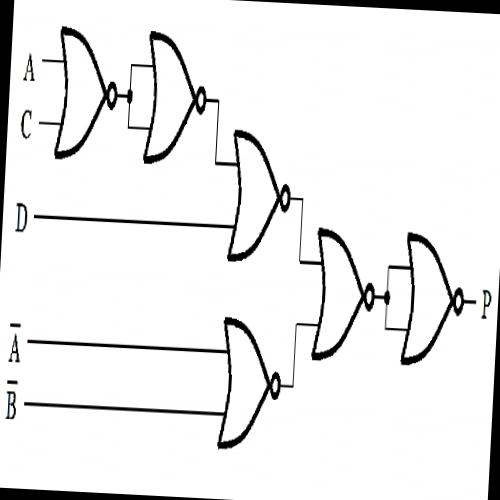nor: (394, 216, 470, 374), (138, 23, 215, 176), (211, 306, 288, 458), (48, 14, 123, 169), (221, 120, 297, 272), (307, 220, 380, 370)
